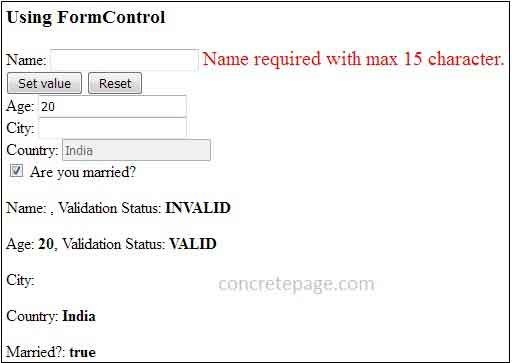_form_: (1, 1, 416, 363), (21, 155, 255, 360)
button: (5, 71, 82, 95), (87, 71, 143, 95)
checkbox: (8, 162, 25, 179)
checkbox_with_label: (7, 162, 137, 180)
field: (48, 47, 201, 72), (34, 94, 188, 118), (34, 117, 189, 140), (60, 139, 214, 162)
field_with_label: (7, 46, 202, 73), (8, 138, 216, 163), (4, 117, 191, 141), (5, 95, 189, 117)
